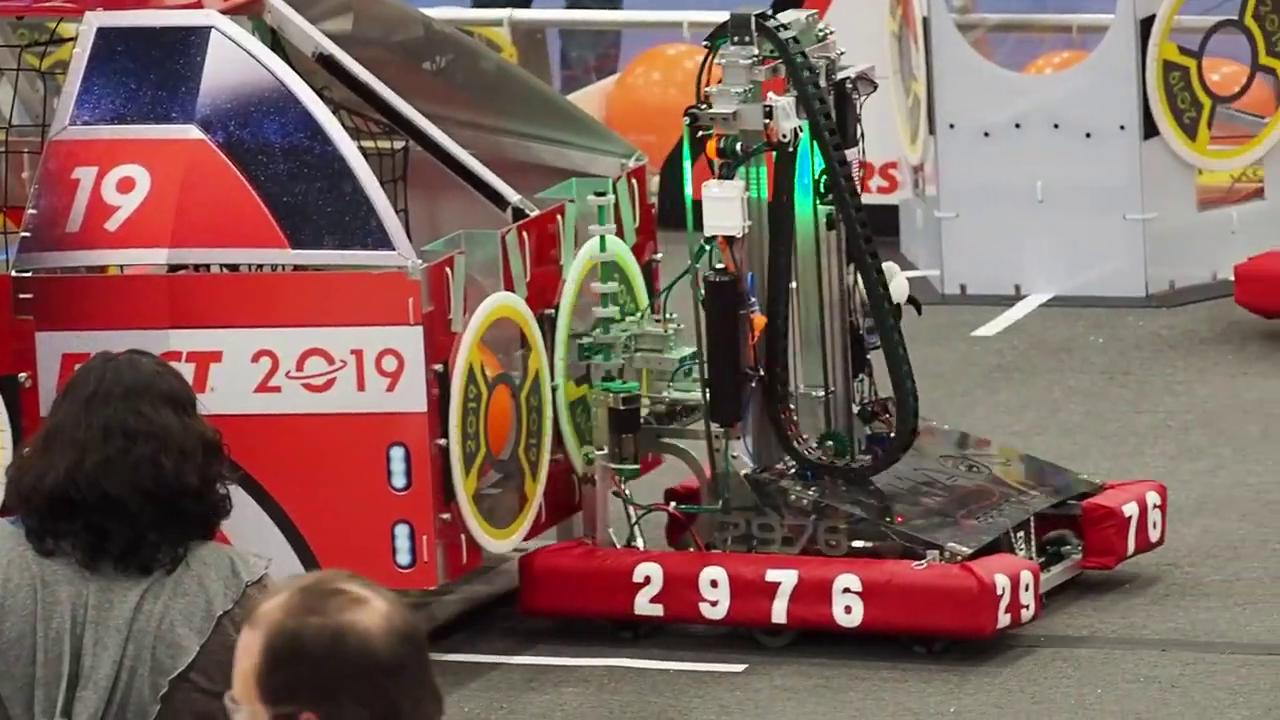robot: (518, 9, 1167, 646)
